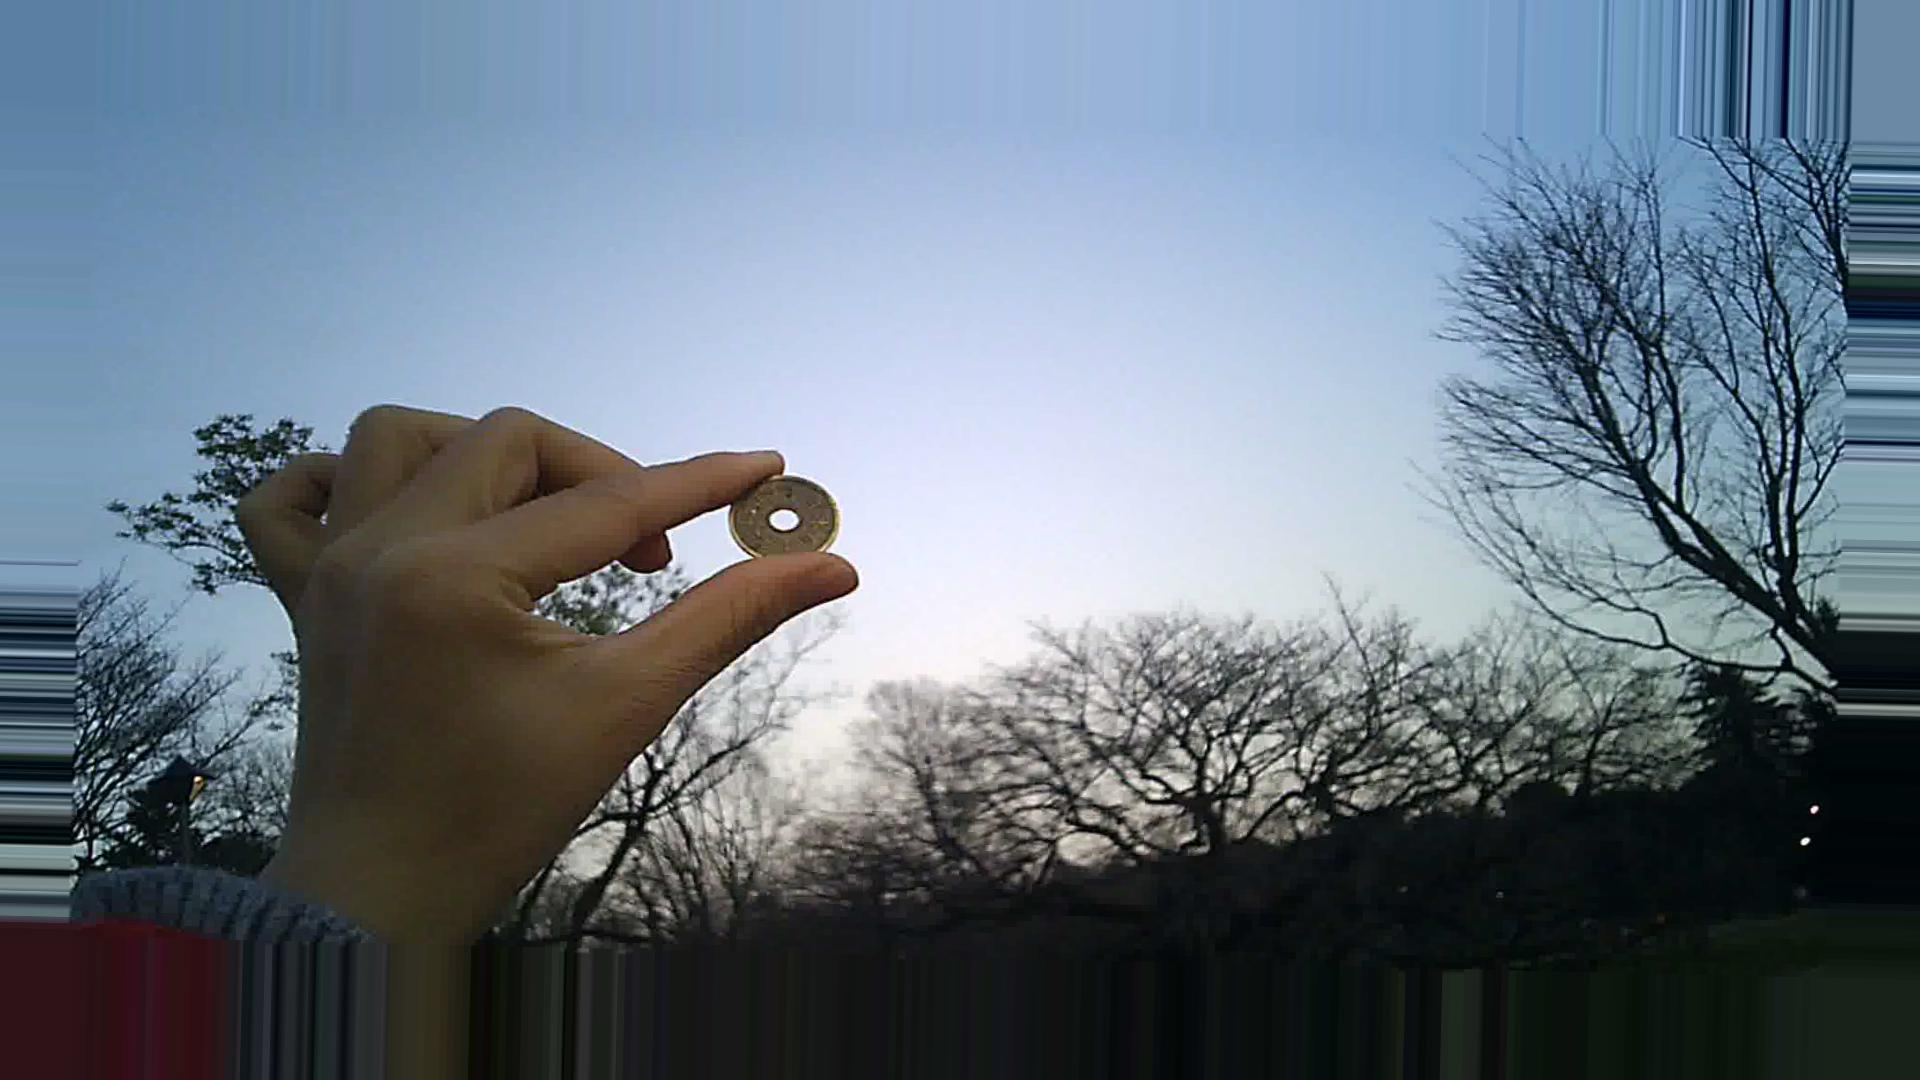5 Yen: (716, 473, 837, 571)
